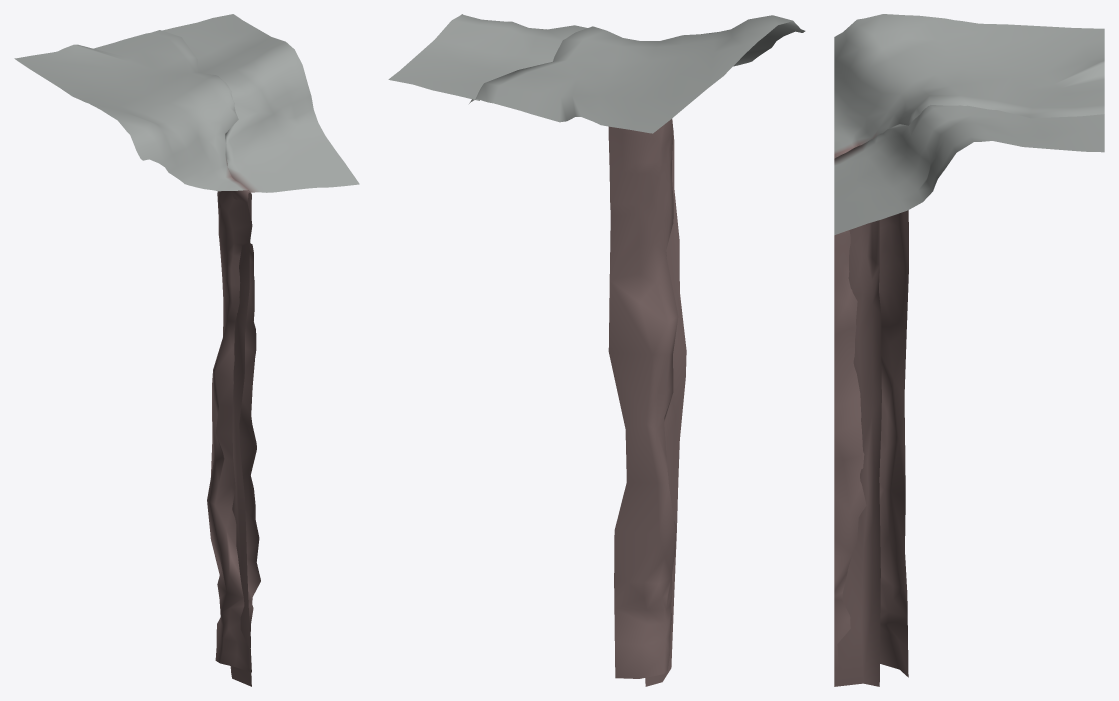
3 views of the same model, side by side, from view 1: azimuth 30°, elevation 25°; view 2: azimuth 150°, elevation 25°; view 3: azimuth 270°, elevation 25° (orthographic). The views are drawn at different scales.
Visible parts, largest first — view 1: G:\FFXIV-MapTools\exports\u5f1\bg\ex4\04_uvs_u5\fld\u5f1\bgp (×12); view 2: G:\FFXIV-MapTools\exports\u5f1\bg\ex4\04_uvs_u5\fld\u5f1\bgp (×7); view 3: G:\FFXIV-MapTools\exports\u5f1\bg\ex4\04_uvs_u5\fld\u5f1\bgp (×13).
Boxes of the visible parts, x1,y1,x2,y2 form: G:\FFXIV-MapTools\exports\u5f1\bg\ex4\04_uvs_u5\fld\u5f1\bgp (×12): (14, 14, 359, 686); G:\FFXIV-MapTools\exports\u5f1\bg\ex4\04_uvs_u5\fld\u5f1\bgp (×7): (388, 14, 805, 686); G:\FFXIV-MapTools\exports\u5f1\bg\ex4\04_uvs_u5\fld\u5f1\bgp (×13): (834, 14, 1104, 686).
Size of the model in its own units: 128 by 322 by 128.
